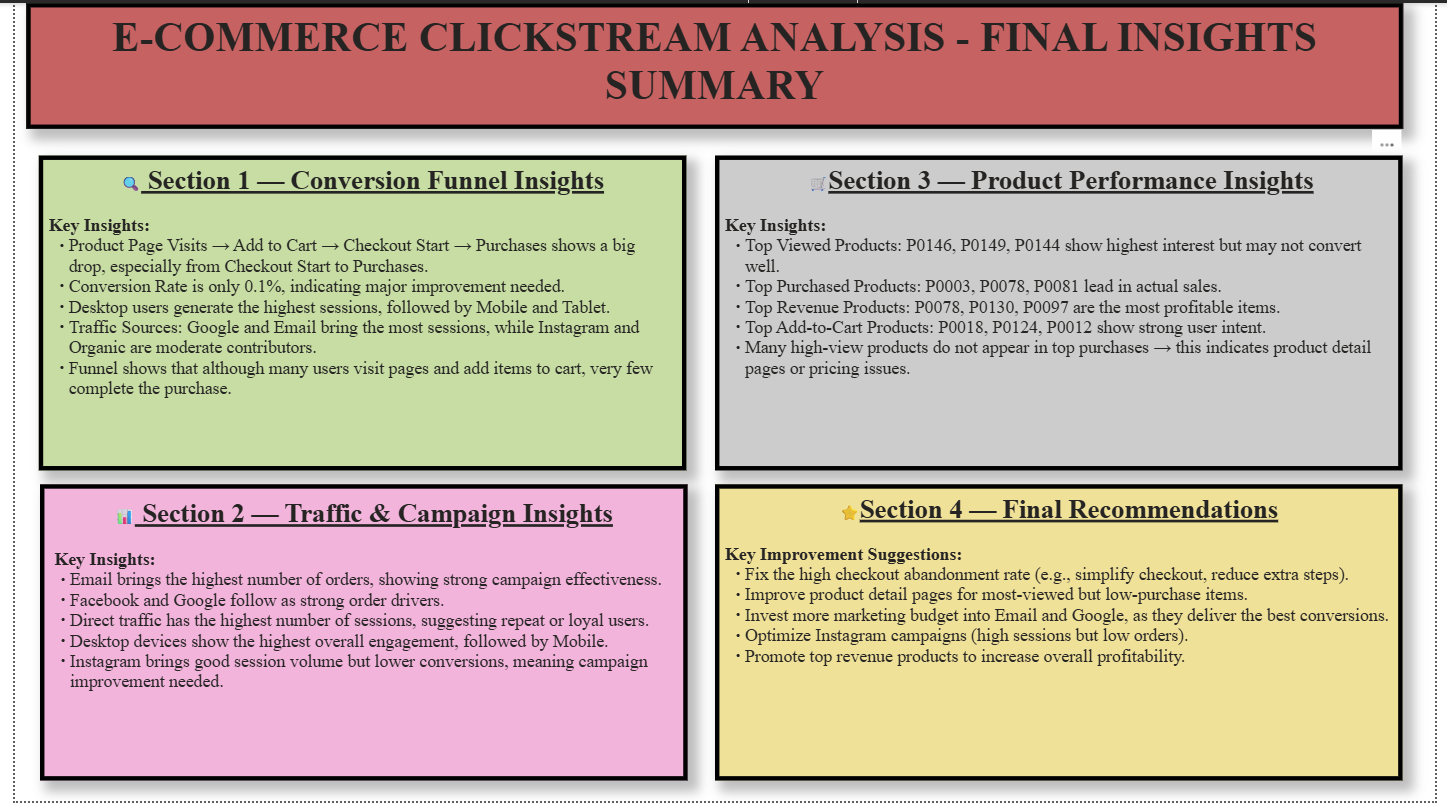

What the dashboard file says about the page in this screenshot:
{"tool":"powerbi","page":{"name":"Insights Summary","canvas":[1280,720],"ordinal":3},"visuals":[{"type":"textbox","box":[10,0,1241.2,113.8],"z":0},{"type":"textbox","box":[21.2,137.5,583.8,283.8],"z":1000},{"type":"textbox","box":[22.5,433.8,583.8,267.5],"z":2000},{"type":"textbox","box":[631.2,137.5,620,283.8],"z":3000},{"type":"textbox","box":[631.2,433.8,620,267.5],"z":4000}]}

Visuals, with their boxes in screenshot pixels (x1, y1, x2, y2), scaled from the page's 1280x720 canvas onto the 1447x809 screenshot:
textbox: [11,0,1414,128]
textbox: [24,154,684,473]
textbox: [25,487,685,788]
textbox: [714,154,1414,473]
textbox: [714,487,1414,788]
